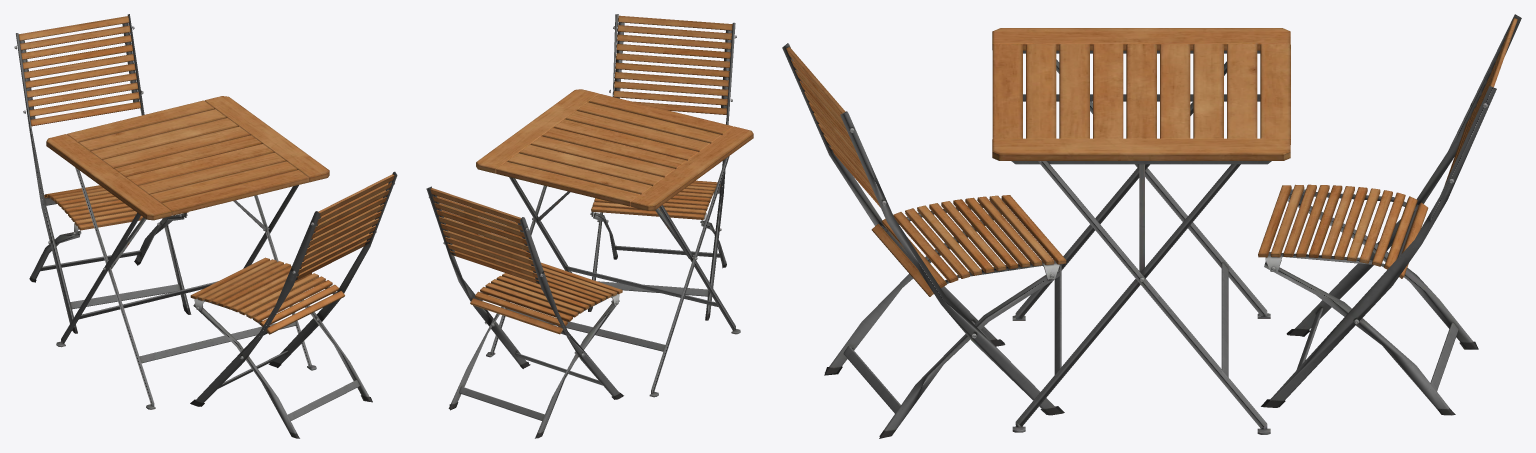
The model's file is outdoor_table_chair_set_01.lite.glb.
3 renders of one model, left to right at view 1: azimuth 30°, elevation 25°; view 2: azimuth 150°, elevation 25°; view 3: azimuth 270°, elevation 25°, orthographic. The views are drawn at different scales.
Visible parts, largest first — view 1: outdoor_table_chair_set_01_chair_01, outdoor_table_chair_set_01_table; view 2: outdoor_table_chair_set_01_chair_01, outdoor_table_chair_set_01_table; view 3: outdoor_table_chair_set_01_table, outdoor_table_chair_set_01_chair_01.
Part boxes in pixels (left/top/right/bottom): outdoor_table_chair_set_01_chair_01: left=14, top=14, right=397, bottom=438; outdoor_table_chair_set_01_table: left=46, top=96, right=329, bottom=409; outdoor_table_chair_set_01_chair_01: left=426, top=14, right=736, bottom=438; outdoor_table_chair_set_01_table: left=476, top=89, right=753, bottom=397; outdoor_table_chair_set_01_table: left=992, top=28, right=1290, bottom=434; outdoor_table_chair_set_01_chair_01: left=782, top=14, right=1521, bottom=438.
Bounding box in the file's own units: 0.7404 × 0.8553 × 1.71.
2 materials, 2 textured.
